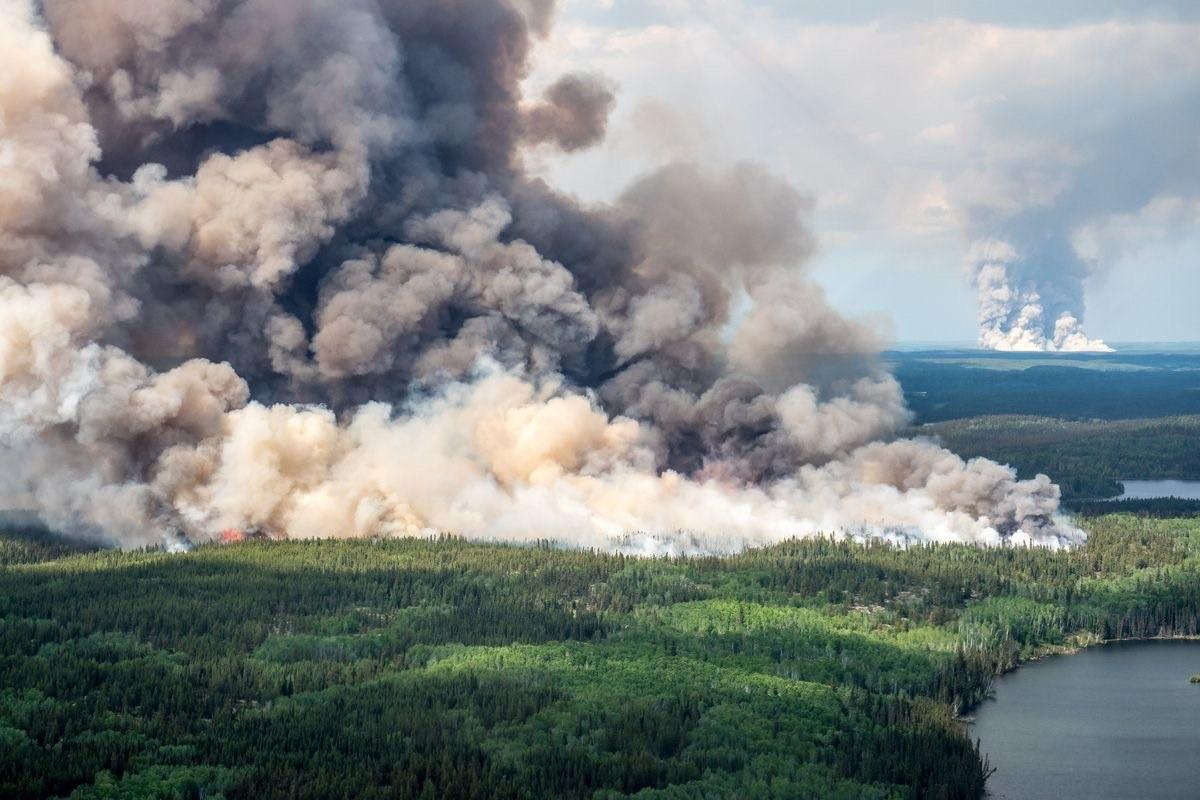fire: (213, 528, 249, 550)
smoke: (296, 6, 748, 571), (33, 12, 609, 440), (0, 0, 207, 569), (765, 360, 1093, 582), (936, 170, 1132, 381)
